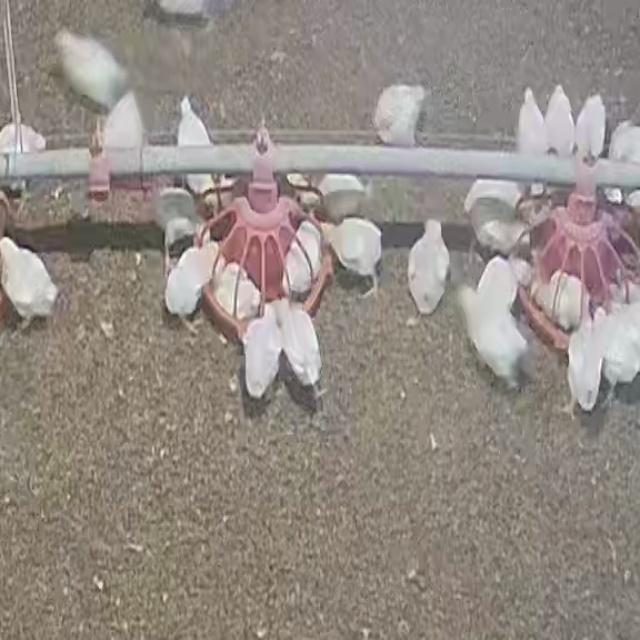chicken: (52, 31, 128, 107), (456, 290, 521, 378), (318, 211, 383, 293), (0, 236, 62, 315), (182, 92, 220, 213), (588, 303, 636, 396), (276, 305, 324, 391), (407, 219, 452, 309), (165, 241, 217, 317), (147, 191, 217, 247), (244, 304, 282, 404), (291, 171, 368, 214), (286, 217, 330, 292), (212, 254, 260, 317), (532, 270, 586, 324), (473, 255, 528, 308), (569, 311, 595, 408), (382, 85, 426, 142), (544, 85, 578, 156), (571, 92, 605, 155), (518, 82, 548, 152), (607, 118, 640, 159)
